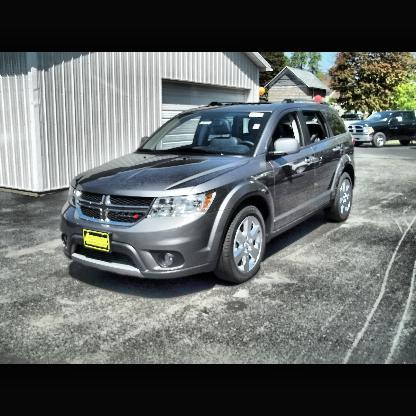Dodge Journey SUV 2012: (61, 101, 355, 284)
